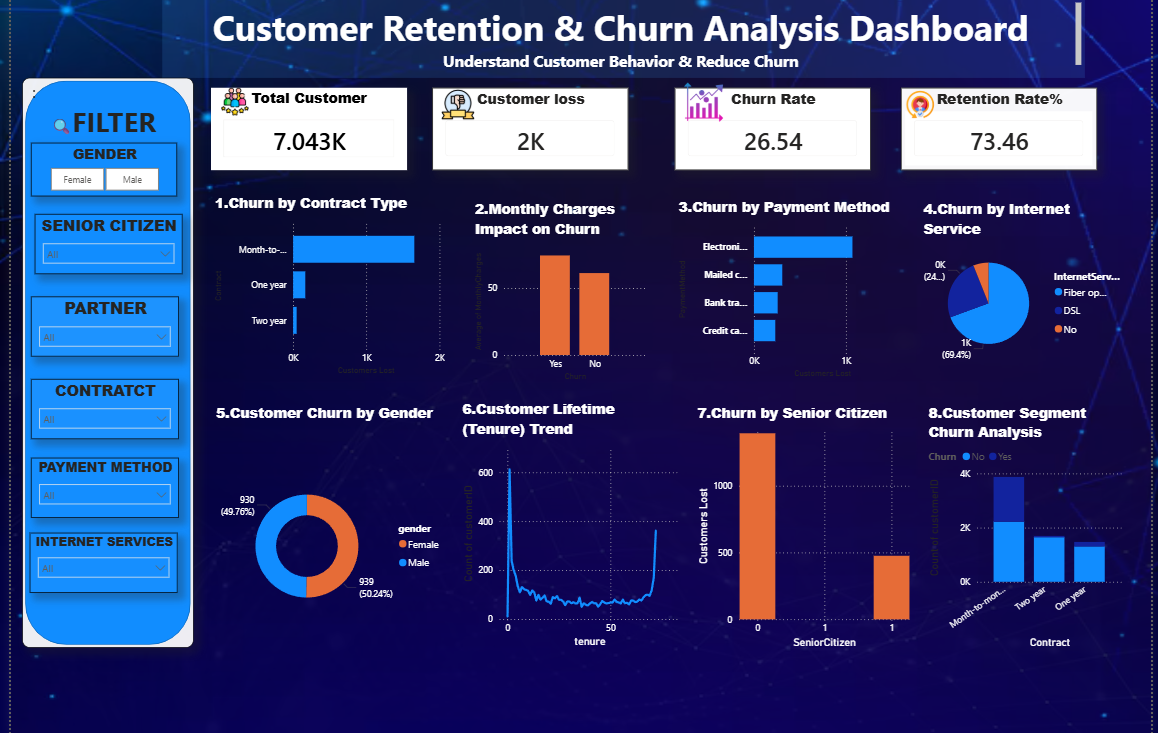

The page's visual inventory and layout, read from the dashboard file:
{"tool":"powerbi","page":{"name":"Page 1","canvas":[1550,1000],"ordinal":0},"visuals":[{"type":"textbox","box":[205.5,0,1253.4,107],"z":0},{"type":"shape","box":[15.3,107,232.7,774.5],"z":1000},{"type":"textbox","box":[23.8,107,203.8,100.2],"z":2000},{"type":"slicer","title":"GENDER","fields":{"Values":["customer_churn_cleaned xlsx.gender"]},"box":[27.2,195.3,198.7,73],"z":3000},{"type":"slicer","title":"SENIOR CITIZEN","fields":{"Values":["customer_churn_cleaned xlsx.SeniorCitizen"]},"box":[32.3,292.1,200.4,81.5],"z":4000},{"type":"slicer","title":"PARTNER","fields":{"Values":["customer_churn_cleaned xlsx.Partner"]},"box":[27.2,404.2,200.4,81.5],"z":5000},{"type":"slicer","title":"CONTRATCT","fields":{"Values":["customer_churn_cleaned xlsx.Contract"]},"box":[27.2,516.3,200.4,81.5],"z":6000},{"type":"slicer","title":"PAYMENT METHOD","fields":{"Values":["customer_churn_cleaned xlsx.PaymentMethod"]},"box":[27.2,623.3,200.4,81.5],"z":7000},{"type":"slicer","title":"INTERNET SERVICES","fields":{"Values":["customer_churn_cleaned xlsx.InternetService"]},"box":[25.5,725.2,200.4,81.5],"z":8000},{"type":"cardVisual","title":"Total Customer","fields":{"Data":["CountNonNull(customer_churn_cleaned xlsx.customerID)"]},"box":[271.7,120.6,266.6,112.1],"z":9000},{"type":"cardVisual","title":"Customer loss","fields":{"Data":["customer_churn_cleaned xlsx.Count of Churn for Yes"]},"box":[572.4,120.6,266,112.1],"z":10000},{"type":"cardVisual","title":"Churn Rate","fields":{"Data":["customer_churn_cleaned xlsx.Churn Rate %"]},"box":[901,120.8,266,112.2],"z":11000},{"type":"cardVisual","title":"Retention Rate%","fields":{"Data":["customer_churn_cleaned xlsx.Retention Rate %"]},"box":[1209.2,120.6,266.6,112.1],"z":12000},{"type":"clusteredBarChart","title":"1.Churn by Contract Type","fields":{"Category":["customer_churn_cleaned xlsx.Contract"],"Y":["customer_churn_cleaned xlsx.Customers Lost"]},"box":[271,264.1,322.8,252],"z":13000},{"type":"donutChart","title":"5.Customer Churn by Gender","fields":{"Category":["customer_churn_cleaned xlsx.gender"],"Y":["customer_churn_cleaned xlsx.Customers Lost"]},"box":[273.4,548.6,322.7,363.5],"z":14000},{"type":"clusteredColumnChart","title":"2.Monthly Charges Impact on Churn","fields":{"Category":["customer_churn_cleaned xlsx.Churn"],"Y":["Avg(customer_churn_cleaned xlsx.MonthlyCharges)"]},"box":[624.8,271,243.4,252],"z":15000},{"type":"lineChart","title":"6.Customer Lifetime (Tenure) Trend","fields":{"Category":["customer_churn_cleaned xlsx.tenure"],"Y":["CountNonNull(customer_churn_cleaned xlsx.customerID)"]},"box":[608,543.5,305.7,343.1],"z":16000},{"type":"clusteredBarChart","title":"3.Churn by Payment Method","fields":{"Y":["customer_churn_cleaned xlsx.Customers Lost"],"Category":["customer_churn_cleaned xlsx.PaymentMethod"]},"box":[901,267.5,307.2,252],"z":17000},{"type":"pieChart","title":"4.Churn by Internet Service","fields":{"Category":["customer_churn_cleaned xlsx.InternetService"],"Y":["customer_churn_cleaned xlsx.Customers Lost"]},"box":[1234.7,271.7,280.2,231],"z":18000},{"type":"columnChart","title":"7.Churn by Senior Citizen","fields":{"Category":["customer_churn_cleaned xlsx.SeniorCitizen"],"Y":["customer_churn_cleaned xlsx.Customers Lost"]},"box":[926.9,548.9,298.6,338.3],"z":19000},{"type":"columnChart","title":"8.Customer Segment Churn Analysis","fields":{"Category":["customer_churn_cleaned xlsx.Contract"],"Y":["CountNonNull(customer_churn_cleaned xlsx.customerID)"],"Series":["customer_churn_cleaned xlsx.Churn"]},"box":[1241,549,274,338],"z":20000},{"type":"image","box":[273.4,120.6,61.1,37.4],"z":21000},{"type":"image","box":[533.3,120.6,147.8,45.9],"z":22000},{"type":"image","box":[888.3,113.8,105.3,52.6],"z":23000},{"type":"image","box":[1197.4,122.3,76.4,42.5],"z":24000}]}

Visuals, with their boxes in screenshot pixels (x1, y1, x2, y2), scaled from the page's 1550x1000 canvas onto the 1158x733 screenshot:
textbox: x1=154, y1=0, x2=1090, y2=78
shape: x1=11, y1=78, x2=185, y2=646
textbox: x1=18, y1=78, x2=170, y2=152
"GENDER" slicer: x1=20, y1=143, x2=169, y2=197
"SENIOR CITIZEN" slicer: x1=24, y1=214, x2=174, y2=274
"PARTNER" slicer: x1=20, y1=296, x2=170, y2=356
"CONTRATCT" slicer: x1=20, y1=378, x2=170, y2=438
"PAYMENT METHOD" slicer: x1=20, y1=457, x2=170, y2=517
"INTERNET SERVICES" slicer: x1=19, y1=532, x2=169, y2=591
"Total Customer" cardVisual: x1=203, y1=88, x2=402, y2=171
"Customer loss" cardVisual: x1=428, y1=88, x2=626, y2=171
"Churn Rate" cardVisual: x1=673, y1=89, x2=872, y2=171
"Retention Rate%" cardVisual: x1=903, y1=88, x2=1103, y2=171
"1.Churn by Contract Type" clusteredBarChart: x1=202, y1=194, x2=444, y2=378
"5.Customer Churn by Gender" donutChart: x1=204, y1=402, x2=445, y2=669
"2.Monthly Charges Impact on Churn" clusteredColumnChart: x1=467, y1=199, x2=649, y2=383
"6.Customer Lifetime (Tenure) Trend" lineChart: x1=454, y1=398, x2=683, y2=650
"3.Churn by Payment Method" clusteredBarChart: x1=673, y1=196, x2=903, y2=381
"4.Churn by Internet Service" pieChart: x1=922, y1=199, x2=1132, y2=368
"7.Churn by Senior Citizen" columnChart: x1=692, y1=402, x2=916, y2=650
"8.Customer Segment Churn Analysis" columnChart: x1=927, y1=402, x2=1132, y2=650
image: x1=204, y1=88, x2=250, y2=116
image: x1=398, y1=88, x2=509, y2=122
image: x1=664, y1=83, x2=742, y2=122
image: x1=895, y1=90, x2=952, y2=121
